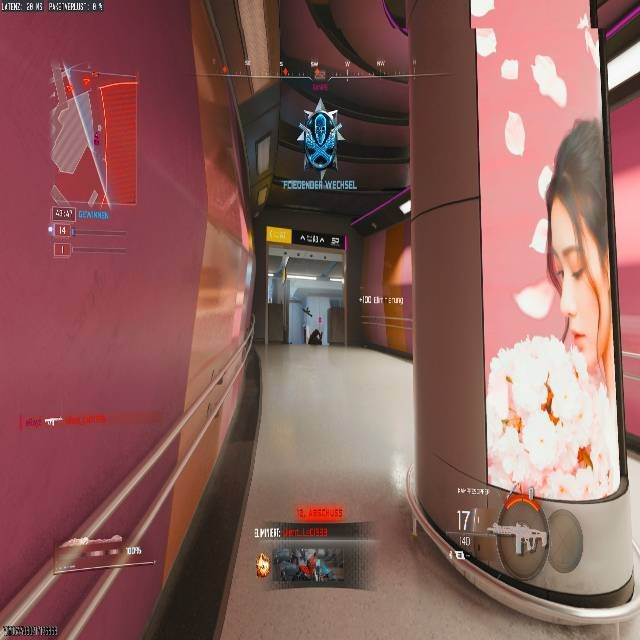player: (298, 97, 339, 177), (308, 328, 321, 345)
